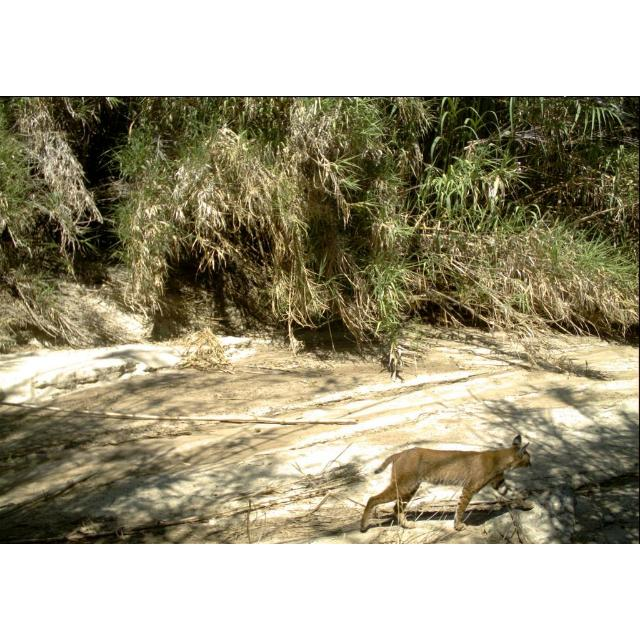animals: (355, 429, 535, 533)
